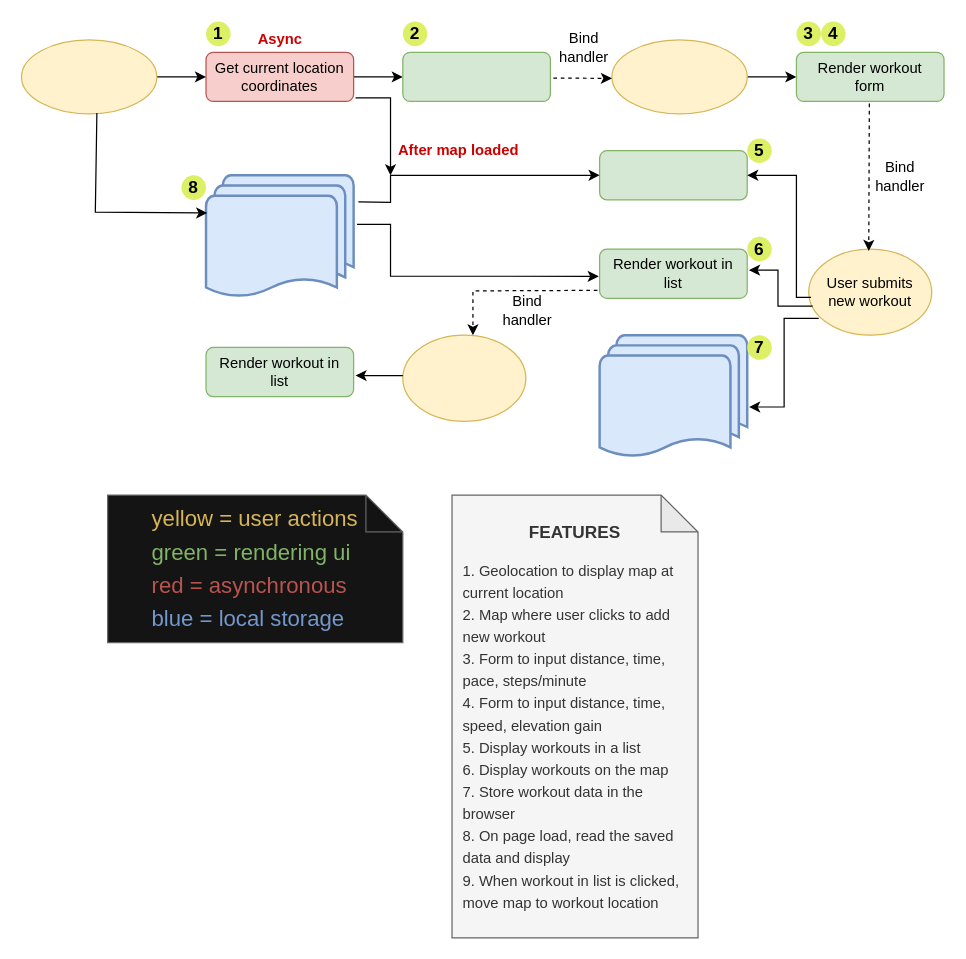
Image size: 966x959. Some labels were removed from this diagram. The box of each missing label's shape, as (x1, y1, x2, y2) in pixels:
Load workouts from local storage: (204, 173, 354, 299)
Page loads: (20, 39, 157, 114)
Render map on current location: (402, 51, 550, 101)
Render workout on map: (598, 149, 747, 200)
Store workouts in local storage: (598, 333, 748, 459)
User clicks on map: (611, 39, 747, 114)
User clicks on workout in list: (402, 334, 526, 421)
